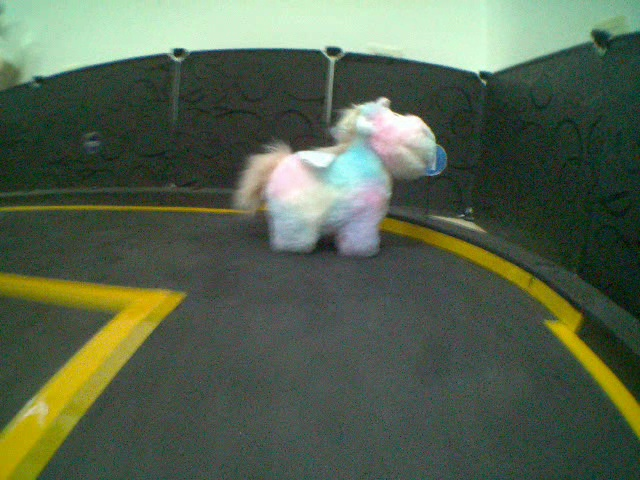unicorn: (231, 91, 438, 257)
